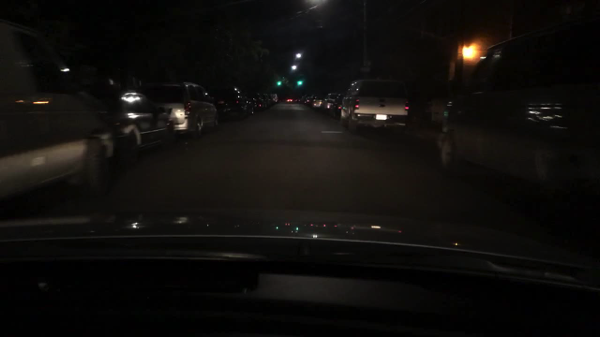car: (433, 17, 598, 220), (0, 16, 117, 202), (68, 71, 177, 153), (139, 80, 220, 140), (339, 79, 409, 133), (207, 85, 252, 122), (323, 92, 345, 118), (246, 91, 266, 112), (318, 92, 337, 113), (310, 96, 325, 110), (261, 93, 272, 108), (266, 93, 276, 106), (304, 96, 314, 106), (296, 95, 307, 103), (271, 93, 279, 103), (286, 97, 293, 102), (278, 97, 282, 102)
traffic sign: (359, 66, 371, 73), (362, 60, 371, 66)
